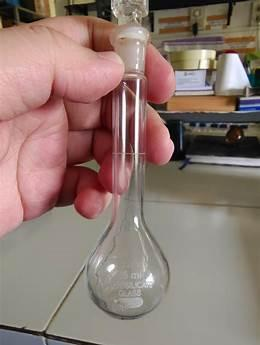Volumetric flask: (83, 14, 169, 327)
